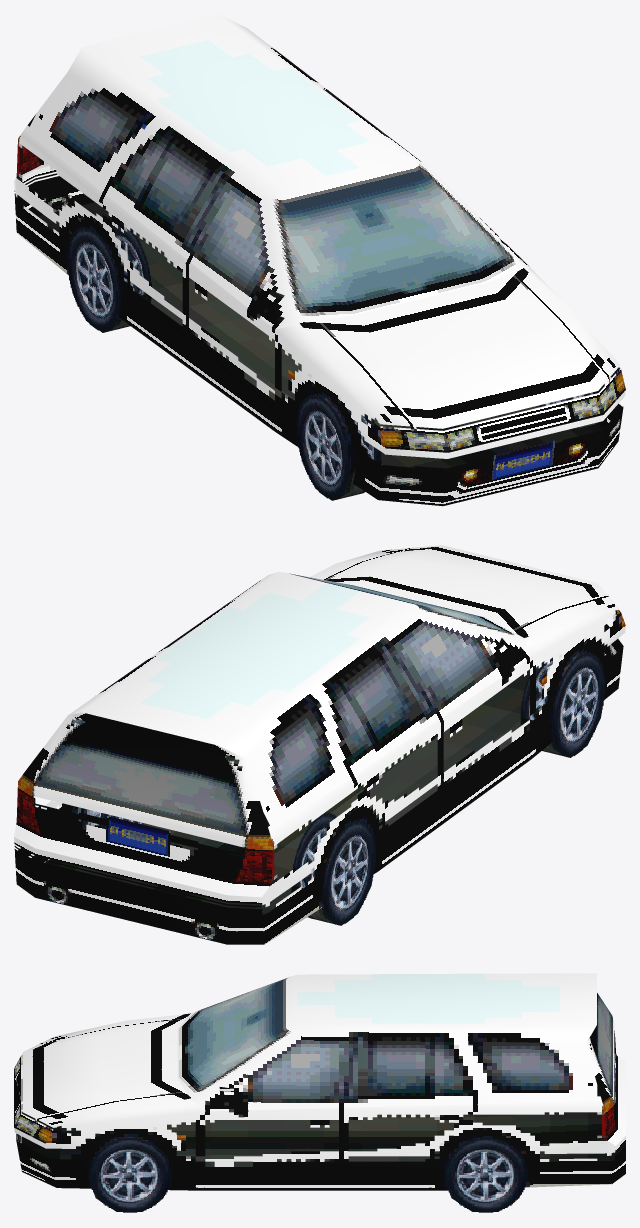
Rendered from traffic-238.glb.
3 renders of one model, top to bottom at view 1: azimuth 30°, elevation 25°; view 2: azimuth 150°, elevation 25°; view 3: azimuth 270°, elevation 25°, orthographic. The views are drawn at different scales.
Parts seen in each view (by area): view 1: body, rear axle wheels, front axle wheels; view 2: body, rear axle wheels, front axle wheels; view 3: body, rear axle wheels, front axle wheels.
Boxes of the visible parts, x1,y1,x2,y2 form: body: (14, 14, 625, 506); rear axle wheels: (67, 226, 151, 331); front axle wheels: (296, 394, 573, 499); body: (14, 545, 625, 944); rear axle wheels: (99, 812, 375, 925); front axle wheels: (520, 652, 605, 757); body: (14, 973, 625, 1211); rear axle wheels: (444, 1137, 527, 1212); front axle wheels: (89, 1137, 171, 1212).
Bounding box in the file's own units: 18 × 14.48 × 48.17.
Materials: 6 (6 with a texture image).
